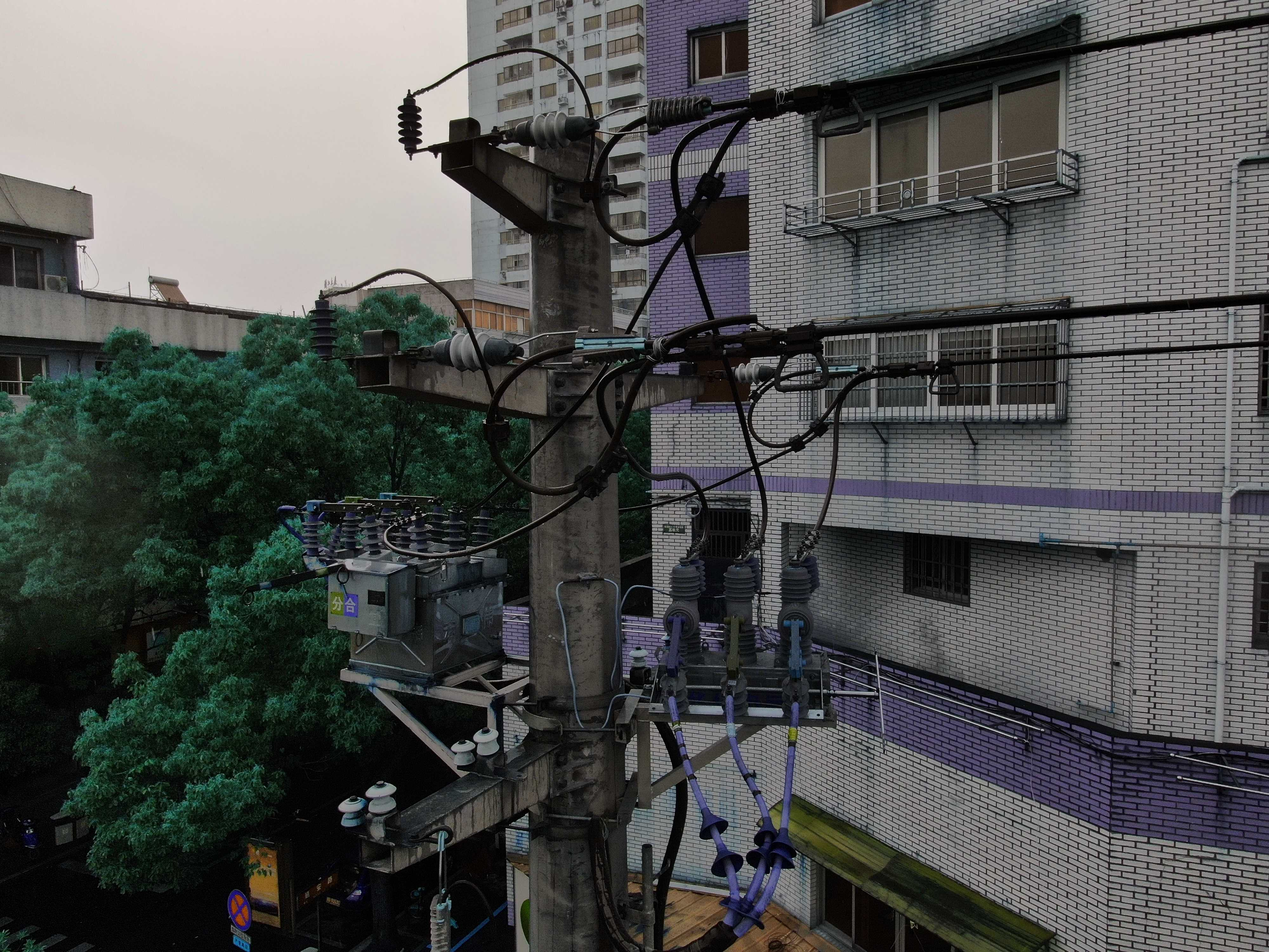severe_soiling_no_discharge_whole: (335, 791, 371, 829)
